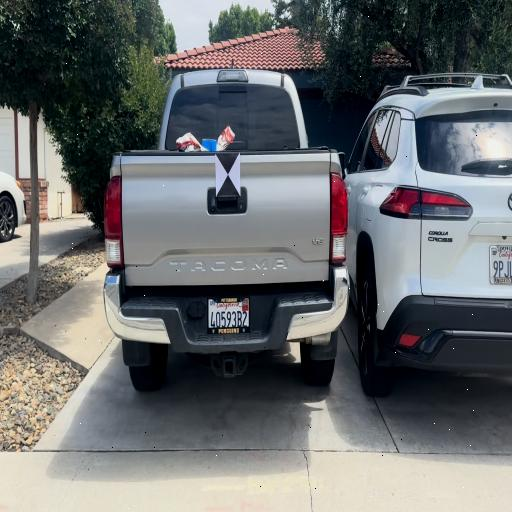target: (215, 154, 241, 196)
